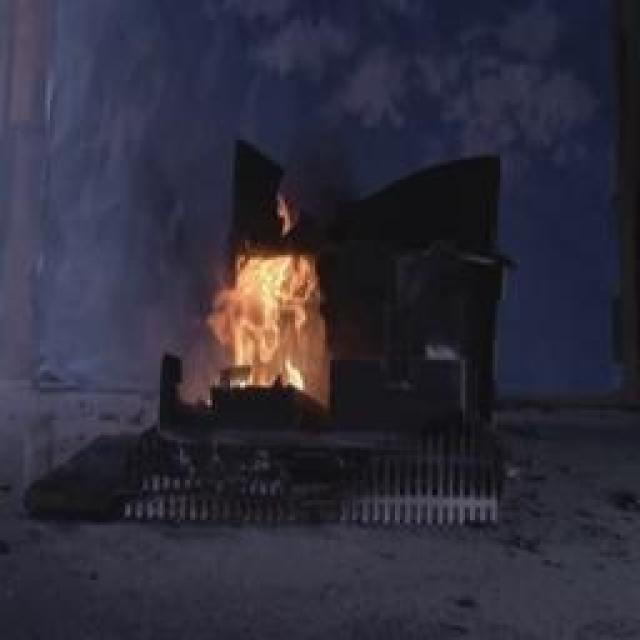fire: (204, 211, 338, 399)
